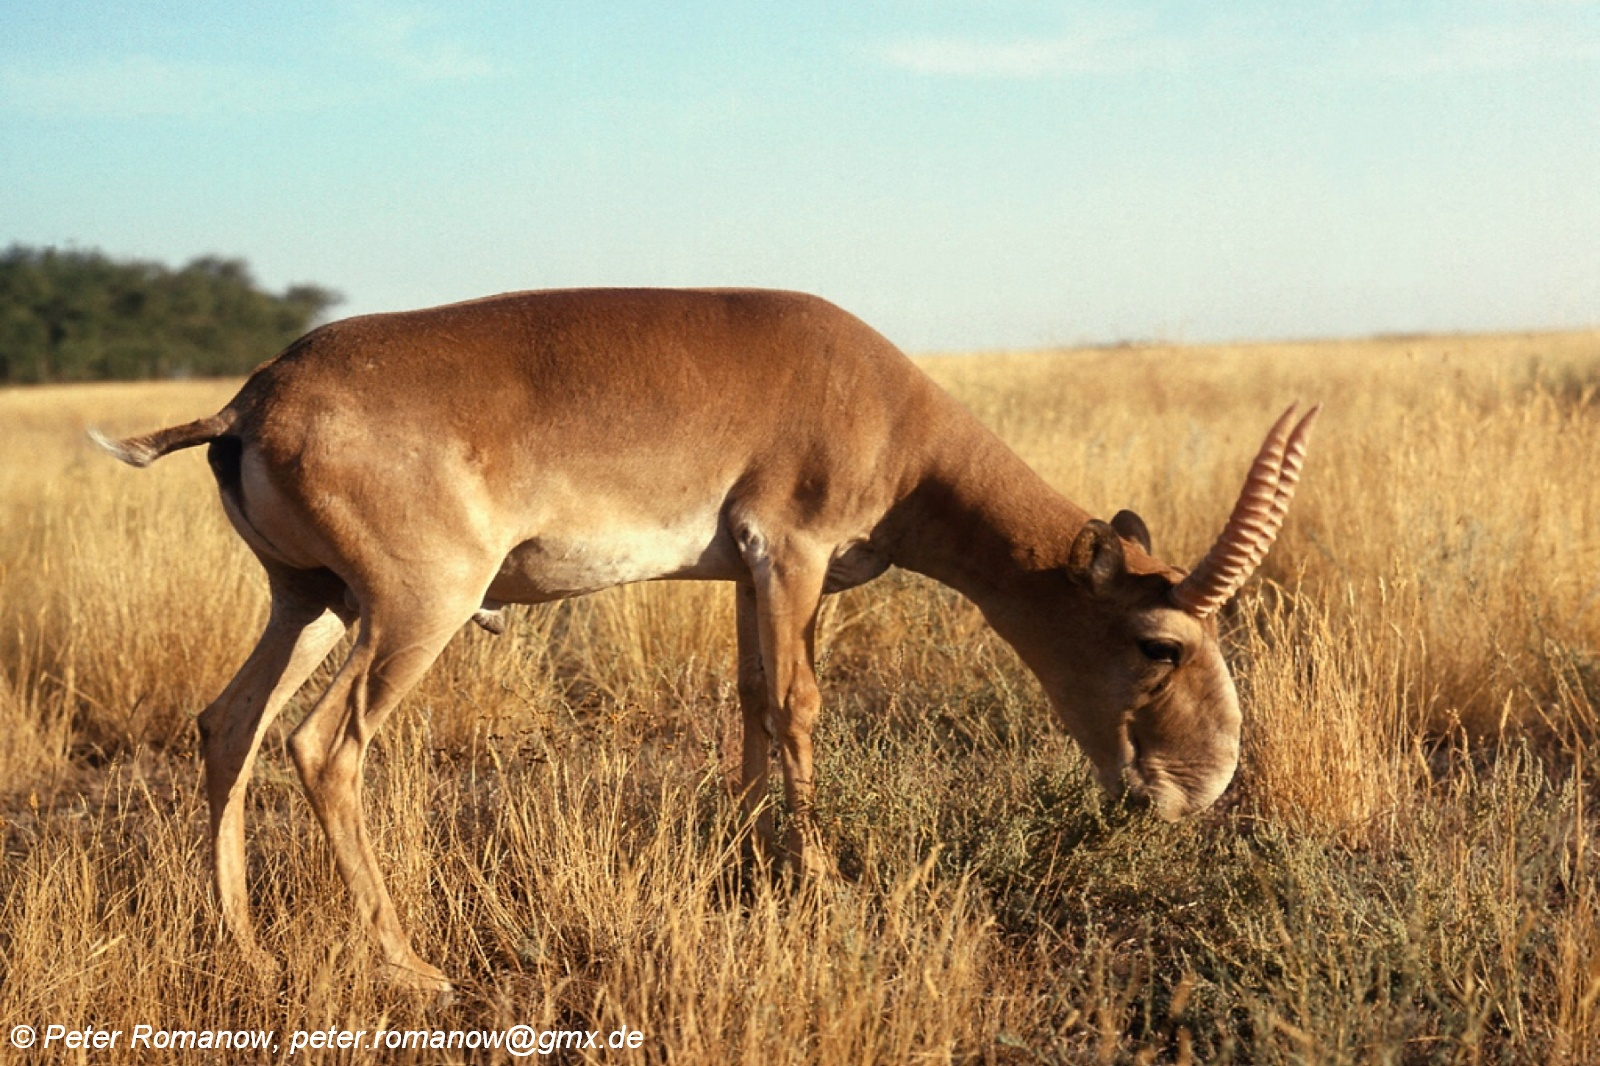saiga: (84, 283, 1324, 1011)
